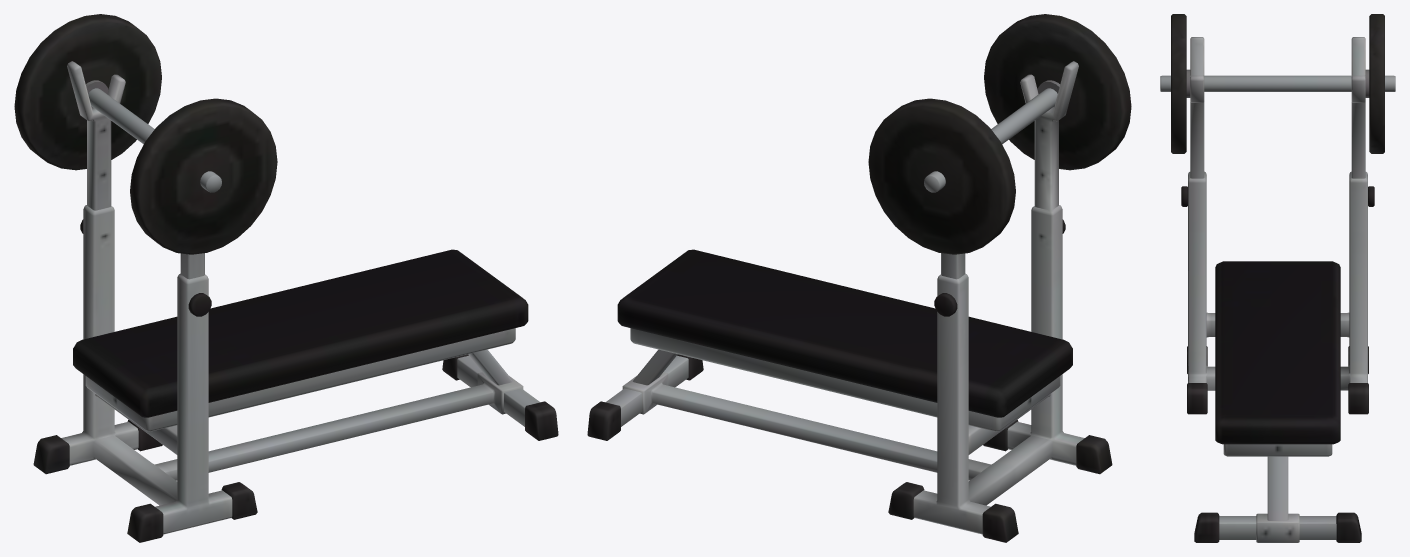
The picture shows the model from 3 angles, left to right: view 1: azimuth 30°, elevation 25°; view 2: azimuth 150°, elevation 25°; view 3: azimuth 270°, elevation 25°; orthographic projection. The views are drawn at different scales.
Bounding box in the file's own units: 18.32 × 17.25 × 9.95.
1 material, 1 textured.
